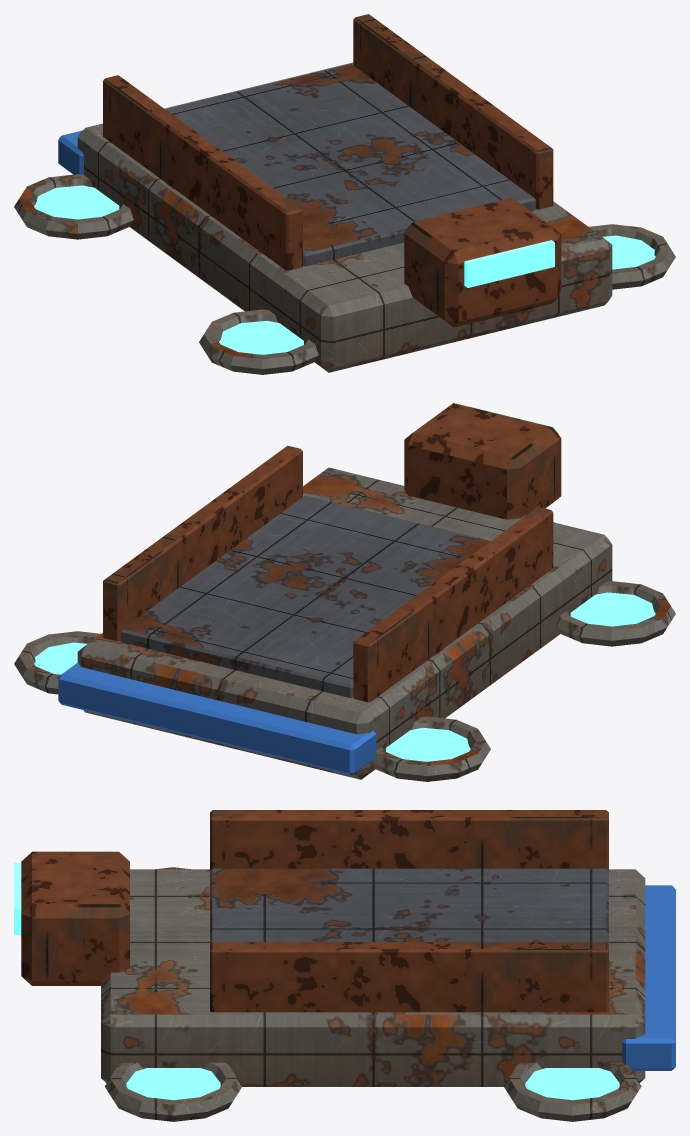
Rendered from barge.glb.
3 views of the same model, one above another, from view 1: azimuth 30°, elevation 25°; view 2: azimuth 150°, elevation 25°; view 3: azimuth 270°, elevation 25° (orthographic). The views are drawn at different scales.
Parts seen in each view (by area): view 1: barge; view 2: barge; view 3: barge.
Part boxes in pixels (<box>): barge: <box>14,14,675,374</box>; barge: <box>14,403,675,781</box>; barge: <box>14,810,675,1121</box>.
Size of the model in its own units: 1.58 by 0.415 by 1.82.
5 materials, 3 textured.
